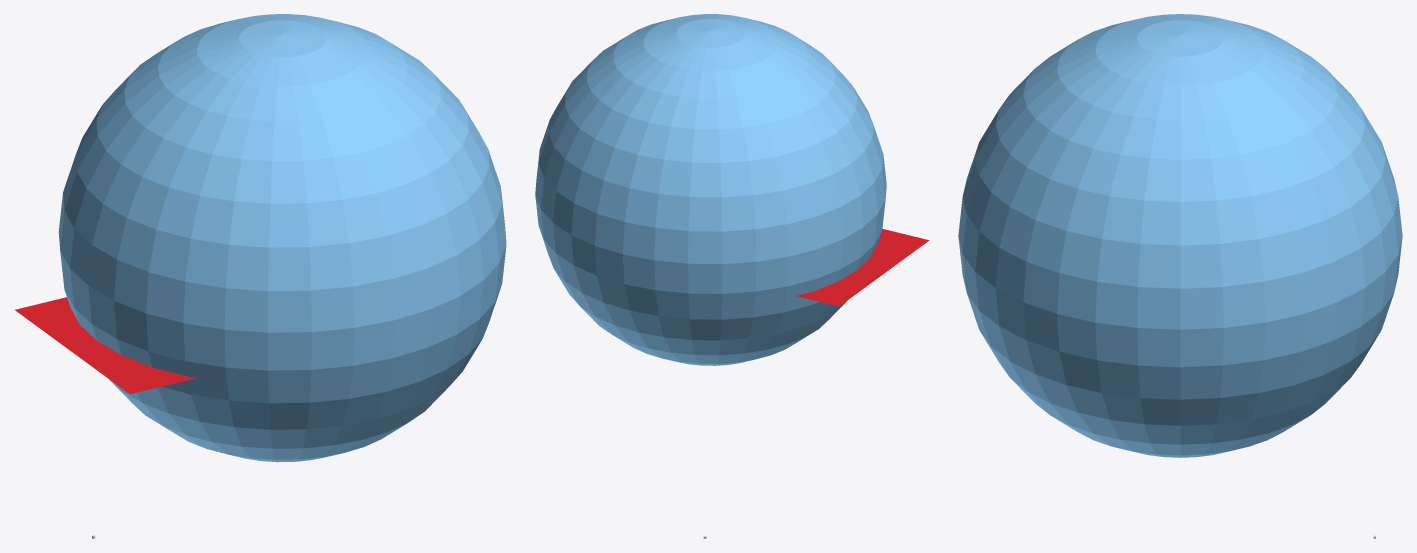
File: test-zone2.glb
3 views of the same model, side by side, from view 1: azimuth 30°, elevation 25°; view 2: azimuth 150°, elevation 25°; view 3: azimuth 270°, elevation 25° (orthographic). The views are drawn at different scales.
Visible parts, largest first — view 1: SkyBox, DeathPlane; view 2: SkyBox, DeathPlane; view 3: SkyBox.
Boxes of the visible parts, box(x1,y1,x2,y2) form: SkyBox: box(58, 14, 506, 462); DeathPlane: box(15, 297, 195, 394); SkyBox: box(535, 14, 886, 365); DeathPlane: box(796, 229, 929, 306); SkyBox: box(958, 14, 1402, 457).
Bounding box in the file's own units: 369 × 476 × 350.
108 materials, 106 textured.
